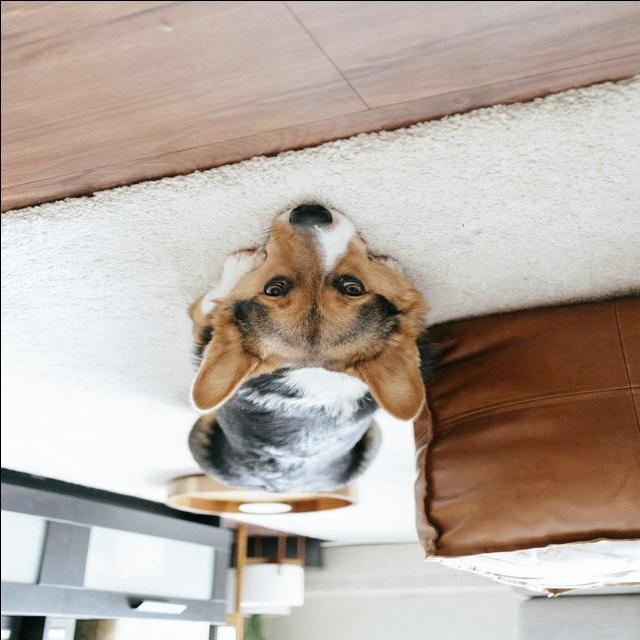corgi: (184, 203, 432, 495)
